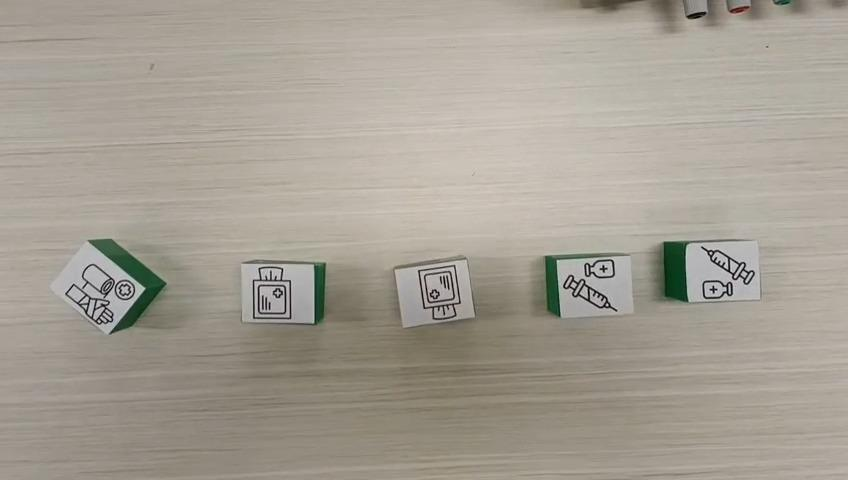Bandages: (48, 238, 166, 335)
Gauze: (391, 253, 477, 328), (240, 258, 327, 324)
antiseptic cream: (660, 237, 762, 303), (543, 251, 635, 318)
